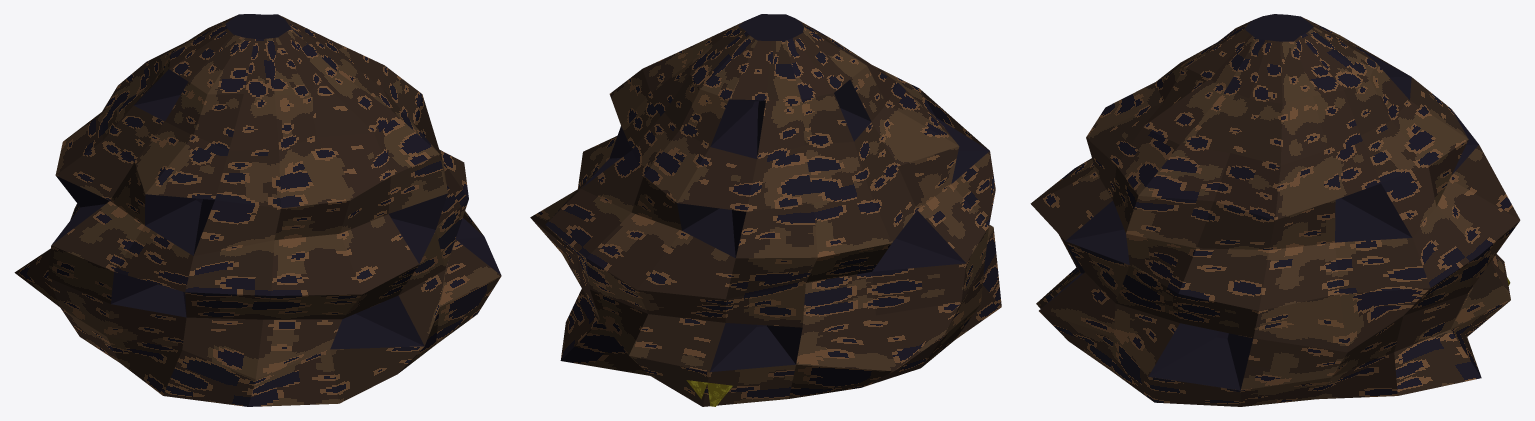
Rendered from agujaPorosaChica2.gltf.
3 views of the same model, side by side, from view 1: azimuth 30°, elevation 25°; view 2: azimuth 150°, elevation 25°; view 3: azimuth 270°, elevation 25° (orthographic). The views are drawn at different scales.
Visible parts, largest first — view 1: POR-01_Penasco_poroso.175-col; view 2: POR-01_Penasco_poroso.175-col; view 3: POR-01_Penasco_poroso.175-col.
Part boxes in pixels (box(x1,y1,x2,y2)): POR-01_Penasco_poroso.175-col: box(14, 14, 501, 406); POR-01_Penasco_poroso.175-col: box(530, 14, 1001, 406); POR-01_Penasco_poroso.175-col: box(1030, 14, 1520, 406).
Size of the model in its own units: 5.79 by 3.85 by 5.82.
1 material, 1 textured.
